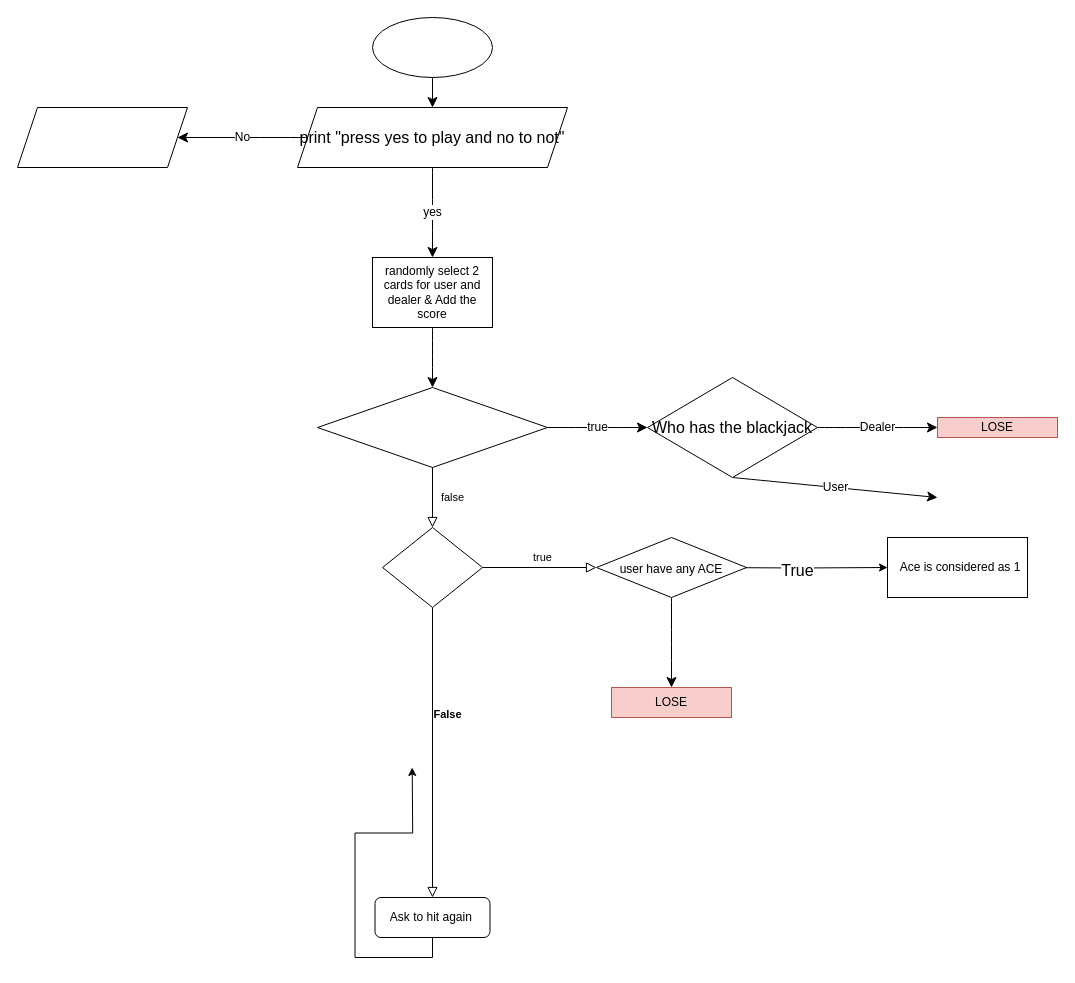
This 1075x983 diagram has some shape labels left out. The box of each missing label's shape, as (x1, y1, x2, y2) in pixels:
if user > 21: (382, 526, 482, 608)
if user=blackjack or dealer = blackjack: (316, 386, 548, 468)
Print "Have a great day": (16, 106, 188, 168)
start: (372, 16, 492, 78)
